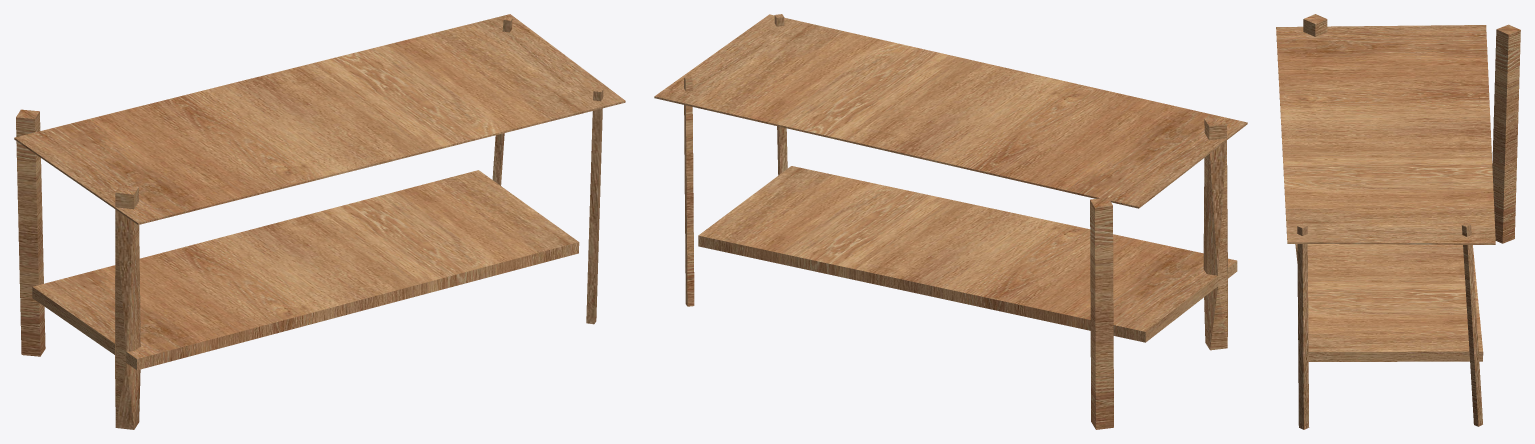
File: 21700_ours.glb
The picture shows the model from 3 angles, left to right: view 1: azimuth 30°, elevation 25°; view 2: azimuth 150°, elevation 25°; view 3: azimuth 270°, elevation 25°; orthographic projection. The views are drawn at different scales.
Parts seen in each view (by area): view 1: ParentEmpty; view 2: ParentEmpty; view 3: ParentEmpty.
Part boxes in pixels (x1,y1,x2,y2): ParentEmpty: [14, 14, 625, 429]; ParentEmpty: [654, 14, 1247, 429]; ParentEmpty: [1276, 14, 1520, 429].
Bounding box in the file's own units: 1 × 0.4631 × 0.4785.
Materials: 1 (1 with a texture image).
